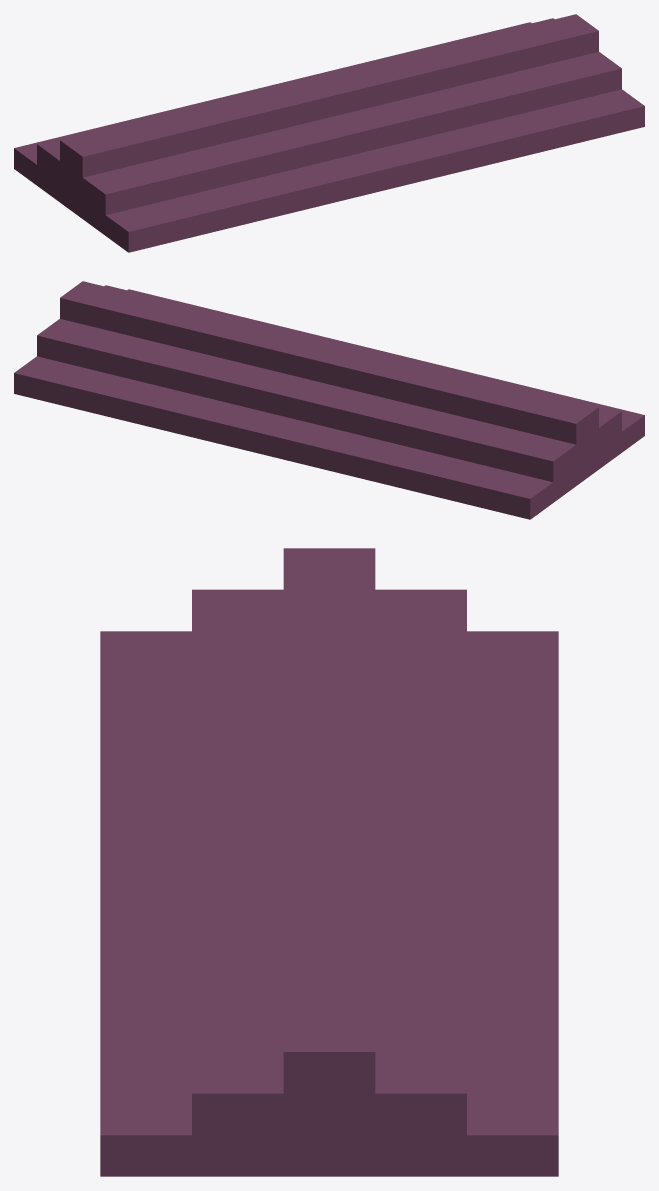
The model's file is tomb_c_a_lid.obj.
3 renders of one model, top to bottom at view 1: azimuth 30°, elevation 25°; view 2: azimuth 150°, elevation 25°; view 3: azimuth 270°, elevation 25°, orthographic. The views are drawn at different scales.
Size of the model in its own units: 2.6 by 0.3 by 1.
1 material, 1 textured.
